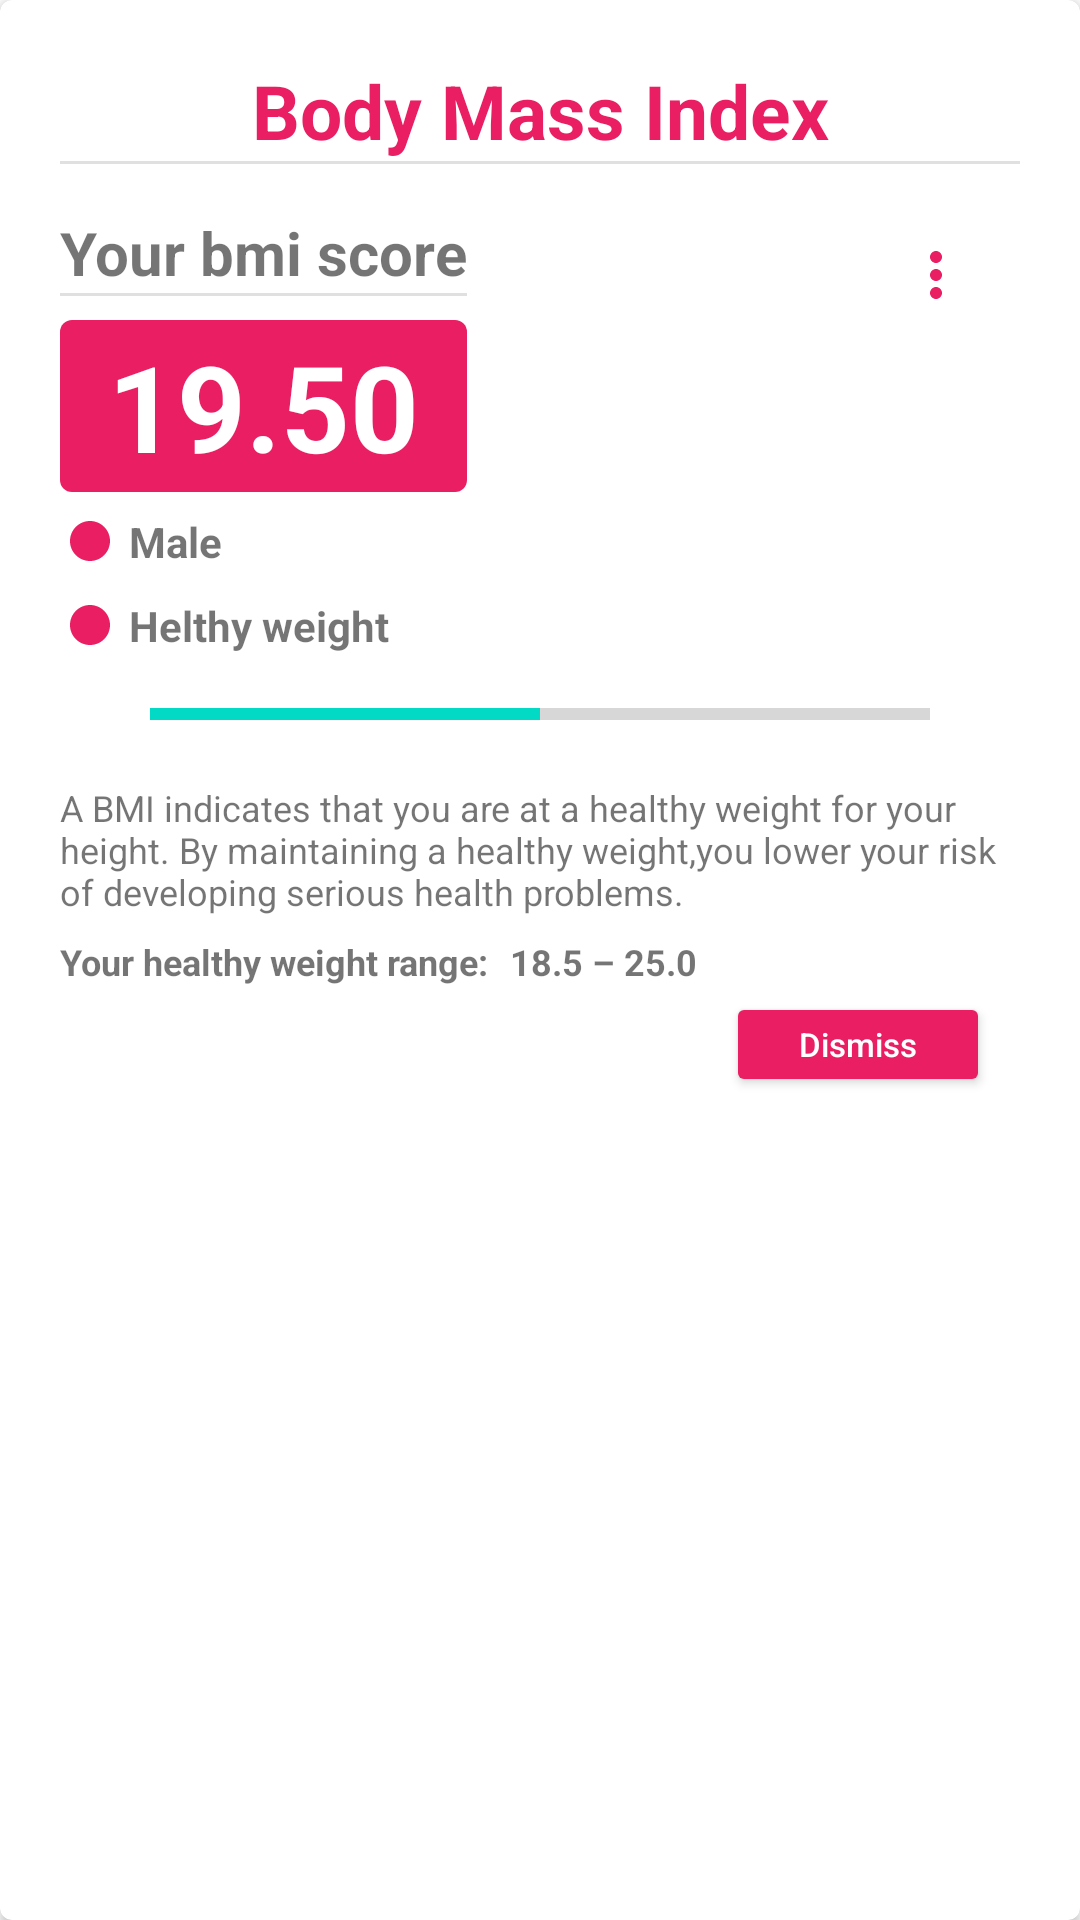

Icons on this 1080*1920 Android screen, each with the point to tap as (x,y):
more vert: (936,275)
